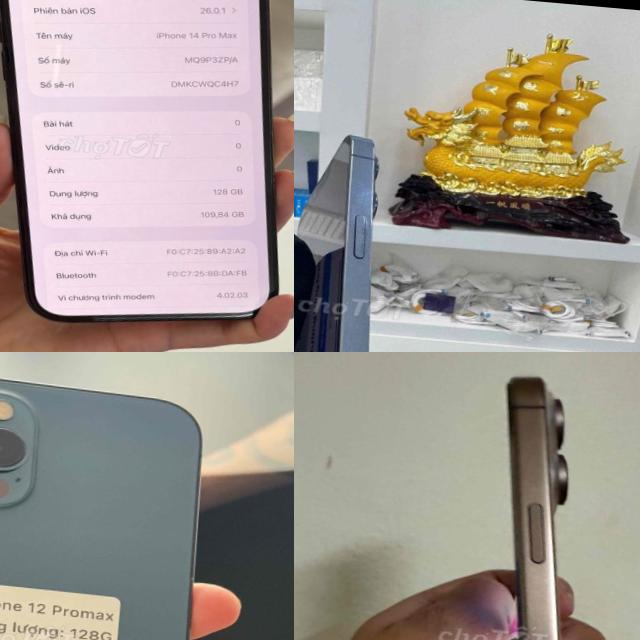gen_12_13: (0, 356, 221, 640), (294, 123, 414, 352)
gen_14: (0, 0, 294, 338)
gen_16: (429, 357, 640, 640)
